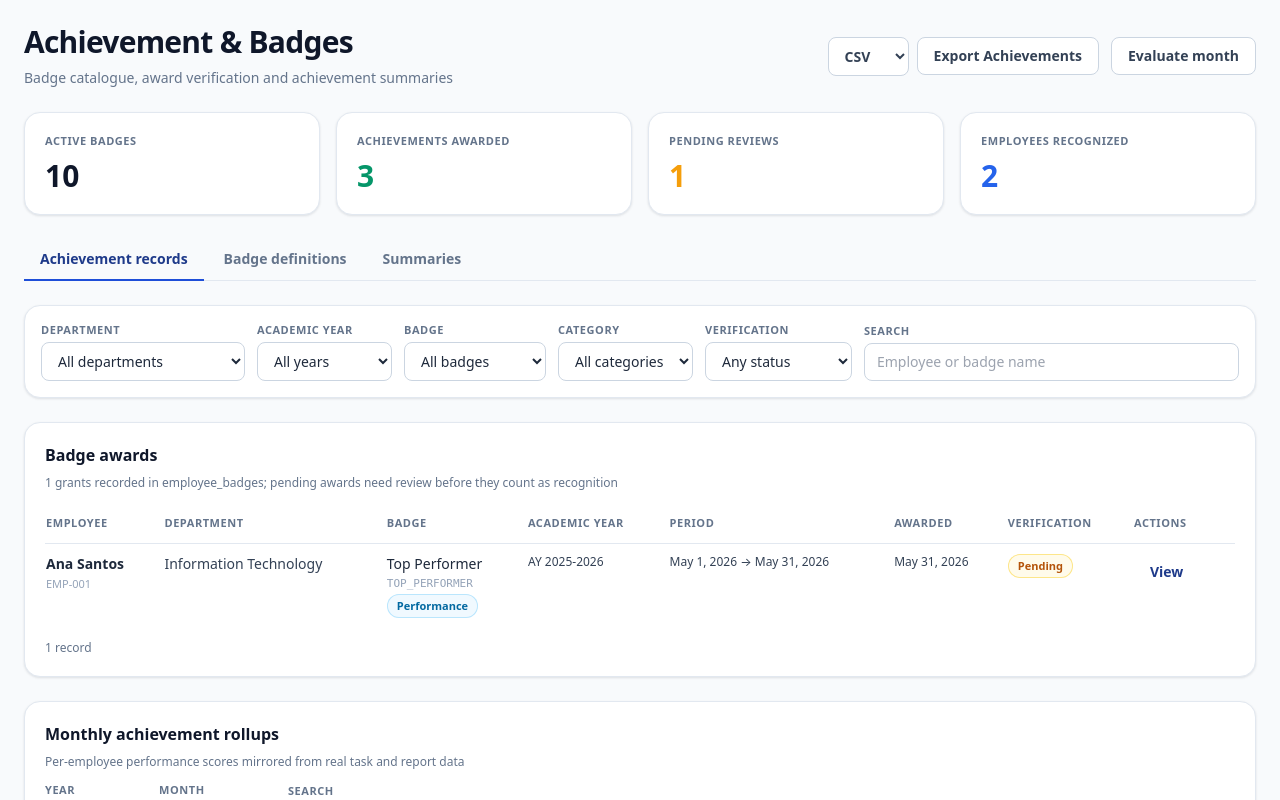
Scenario: AdminAchievementsPage › switches to the badge definitions tab and lists the catalogue
This screenshot has width=1280, height=800.
Click the button "Badge definitions".
click(285, 260)  # box [208,238,363,280]
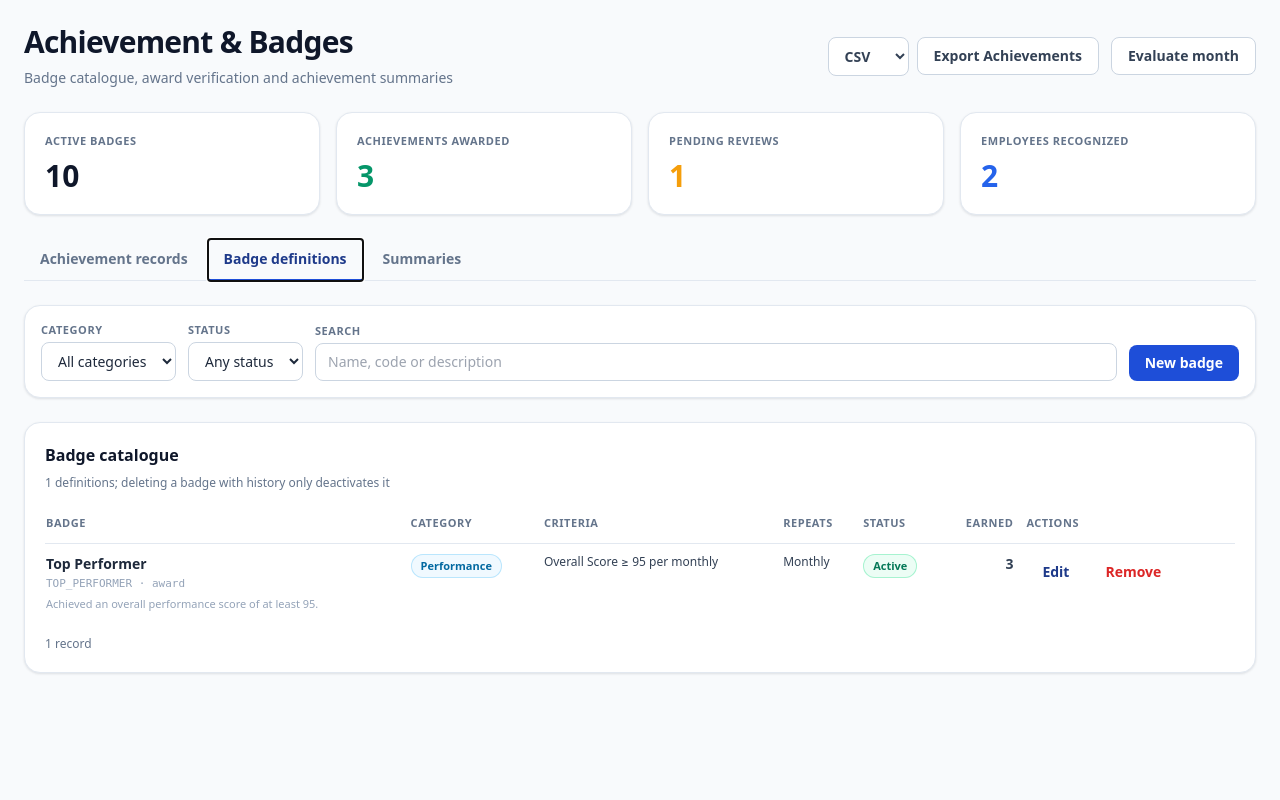
Expected: the text "Overall Score ≥ 95 per monthly" is shown, [543,544,782,624]
Expected: the text "Active" is shown, [863,554,917,578]
